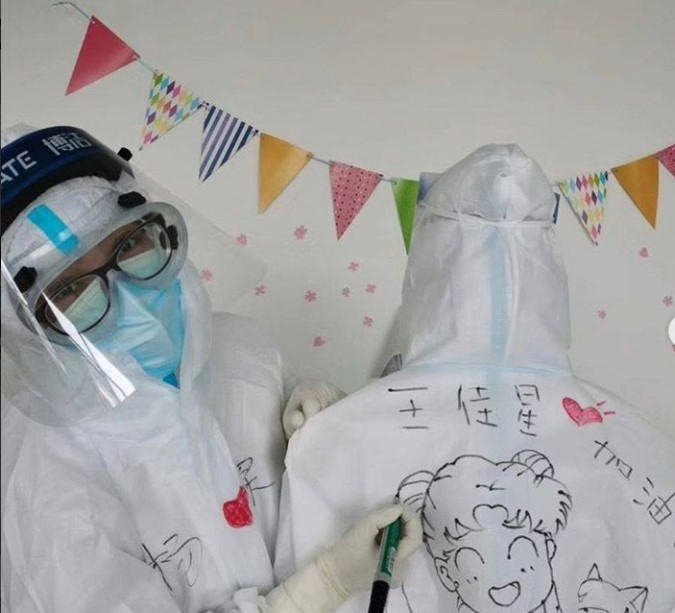face_with_mask: (5, 130, 194, 392)
